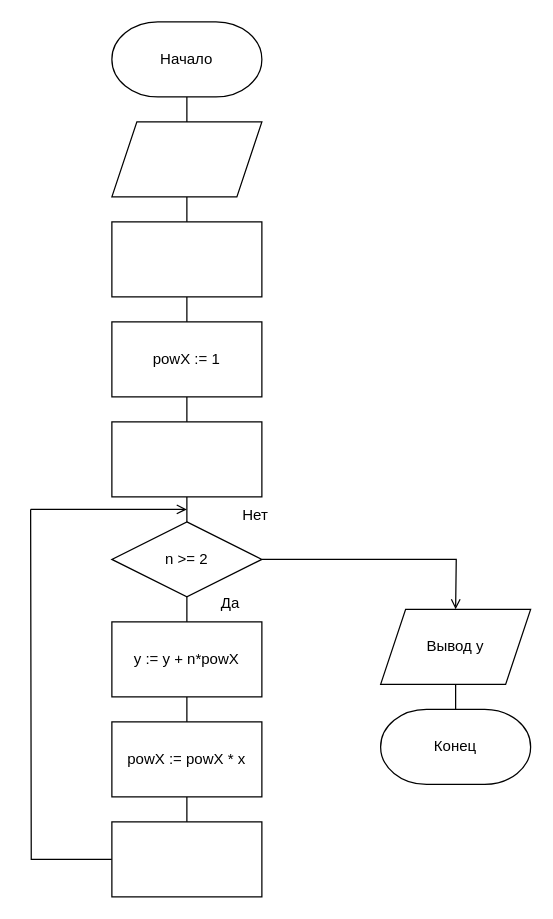
Some shapes in this 553 by 919 pixel diagram are drawn without their labels. Each missing label, with the centre of its shape:
"n := 22" belongs at (x=186, y=459).
"n := n - 4" belongs at (x=186, y=859).
"y := 0" belongs at (x=186, y=259).
"Ввод x" belongs at (x=186, y=159).
